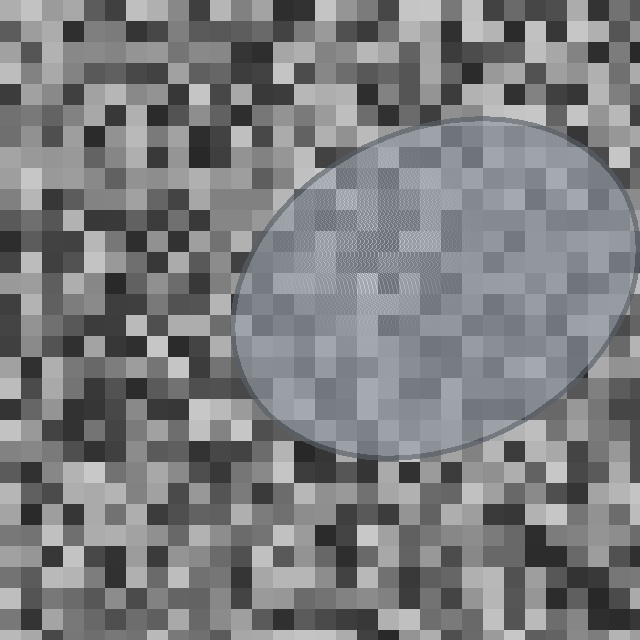lens: (233, 119, 637, 457)
